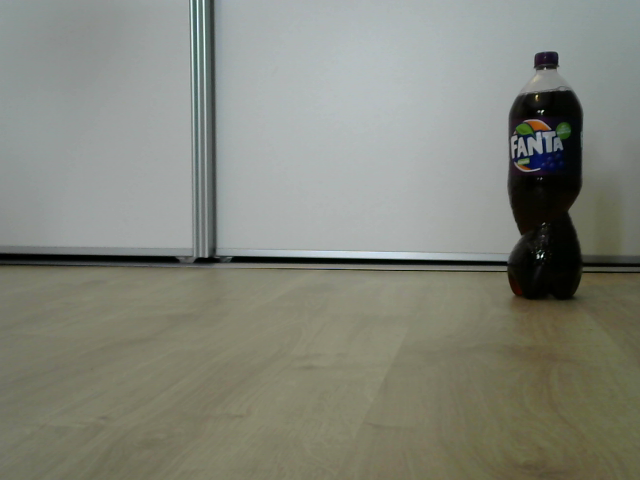bottle: (508, 51, 582, 300)
